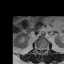CCS_stenosis: (40, 44, 42, 53)
LFS_normal: (44, 45, 46, 51)
LLS_normal: (42, 46, 44, 52)
RFS_normal: (36, 45, 38, 51)
RLS_normal: (38, 45, 40, 52)
